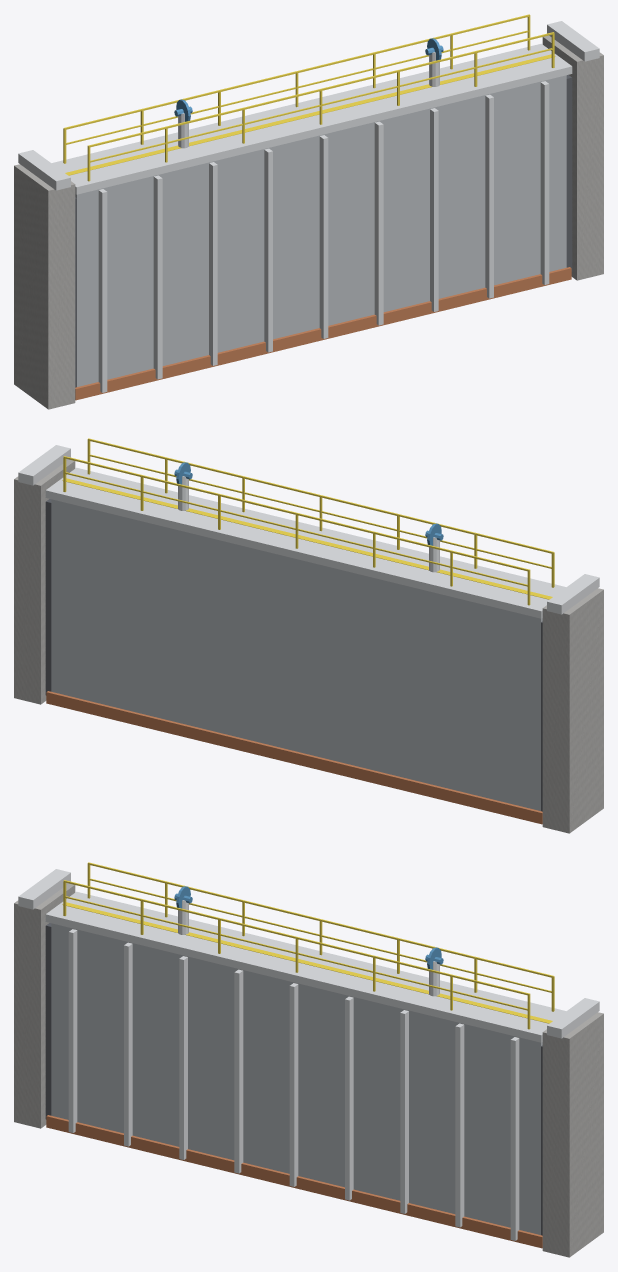
The model's file is shipyard-and-dry-dock-shipyard-and-dry-dock-dock-gate--00453666__37918.glb.
The picture shows the model from 3 angles, top to bottom: view 1: azimuth 30°, elevation 25°; view 2: azimuth 150°, elevation 25°; view 3: azimuth 330°, elevation 25°; orthographic projection.
Parts seen in each view (by area): view 1: gate-leaf/paint, gate-leaf/steel (×10), shipyard-and-dry-dock-dock-gate-caisson, gate-leaf/yellow (×5), gate-leaf/primer, gate-leaf/charcoal; view 2: gate-leaf/paint, shipyard-and-dry-dock-dock-gate-caisson, gate-leaf/steel, gate-leaf/yellow (×5), gate-leaf/primer, gate-leaf/charcoal; view 3: gate-leaf/paint, gate-leaf/steel (×10), shipyard-and-dry-dock-dock-gate-caisson, gate-leaf/yellow (×5), gate-leaf/primer, gate-leaf/charcoal.
Part boxes in pixels (x1,y1,x2,y2): gate-leaf/paint: (75, 75, 566, 386); gate-leaf/steel (×10): (51, 43, 572, 392); shipyard-and-dry-dock-dock-gate-caisson: (14, 21, 603, 409); gate-leaf/yellow (×5): (63, 14, 555, 175); gate-leaf/primer: (75, 267, 571, 400); gate-leaf/charcoal: (566, 75, 572, 271); gate-leaf/paint: (51, 499, 542, 810); shipyard-and-dry-dock-dock-gate-caisson: (14, 445, 603, 833); gate-leaf/steel: (45, 467, 566, 618); gate-leaf/yellow (×5): (62, 438, 554, 599); gate-leaf/primer: (46, 691, 542, 824); gate-leaf/charcoal: (45, 499, 51, 695); gate-leaf/paint: (51, 923, 542, 1234); gate-leaf/steel (×10): (45, 891, 566, 1240); shipyard-and-dry-dock-dock-gate-caisson: (14, 869, 603, 1257); gate-leaf/yellow (×5): (62, 862, 554, 1023); gate-leaf/primer: (46, 1115, 542, 1248); gate-leaf/charcoal: (45, 923, 51, 1119).
Size of the model in its own units: 18.6 by 8.3 by 2.2.
Materials: 7 (1 with a texture image).
